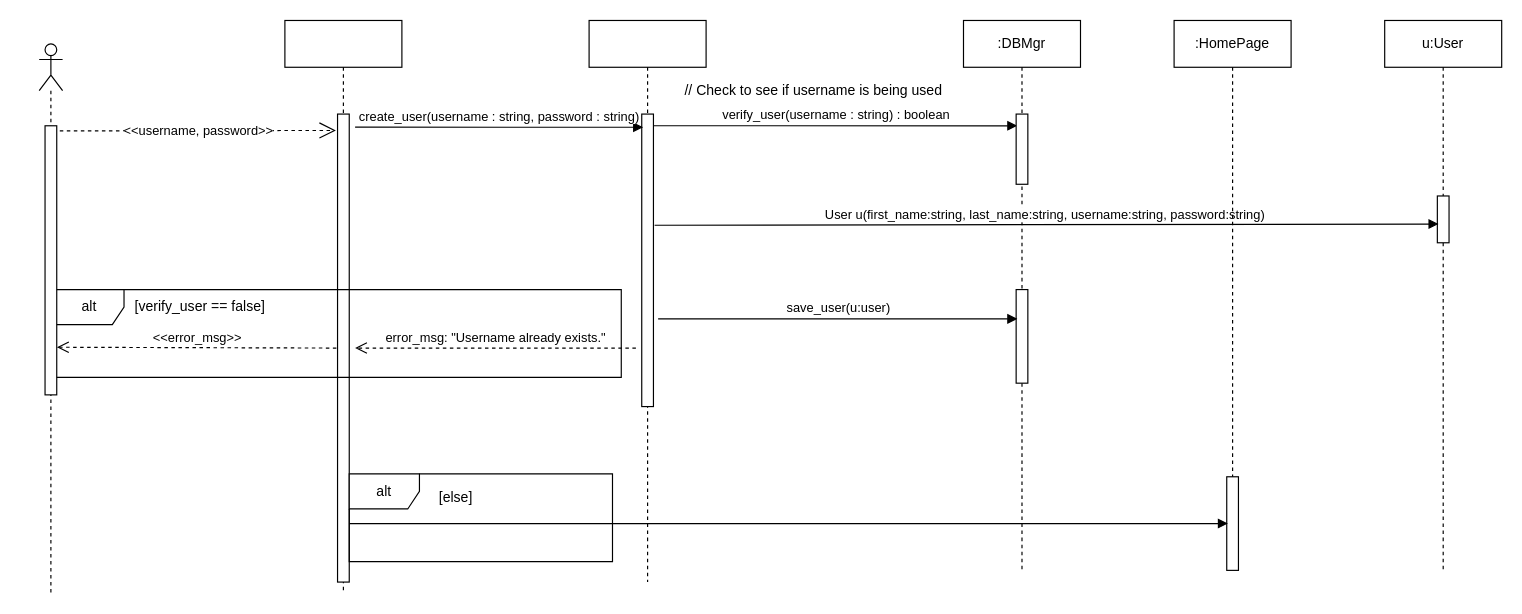
The diagram is 1522 pixels wide and 614 high, and some of its shapes have lost their labels. The shapes that lost their labels are listed below. From the top down, each one's box as (x1, y1, x2, y2) in pixels, then its label:
(38, 43, 63, 594): Customer
(284, 19, 402, 594): :Loginpage
(588, 19, 706, 582): :LoginController
